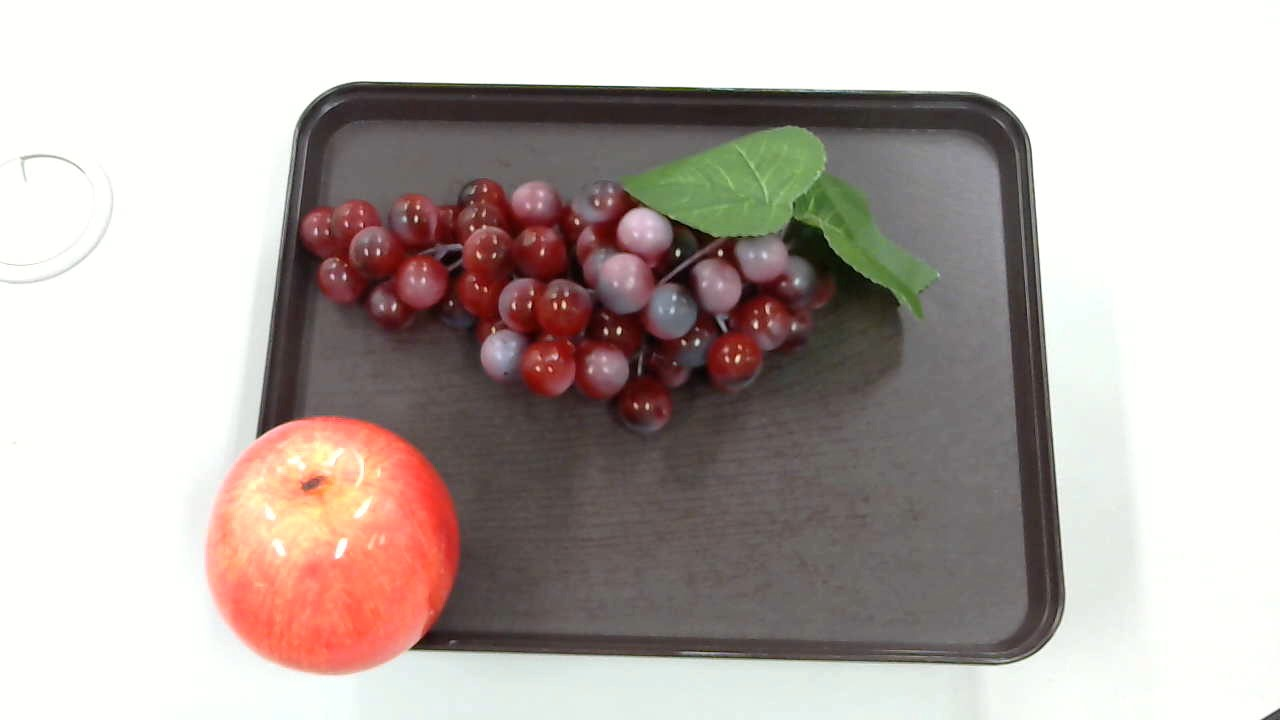grape: (300, 125, 935, 434)
red apple: (205, 408, 466, 681)
